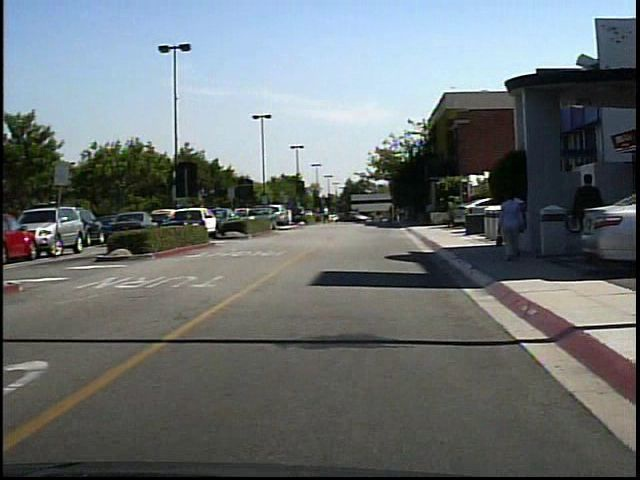person: (573, 171, 612, 267), (500, 189, 530, 267), (514, 189, 533, 263), (325, 203, 336, 227)
